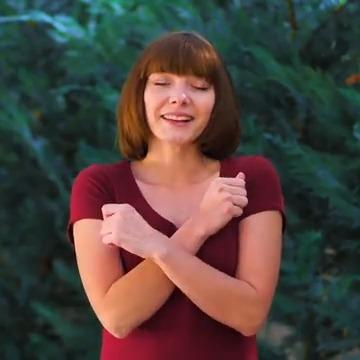love: (87, 161, 276, 339)
